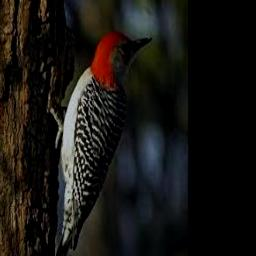Woodpecker: (51, 30, 152, 256)
